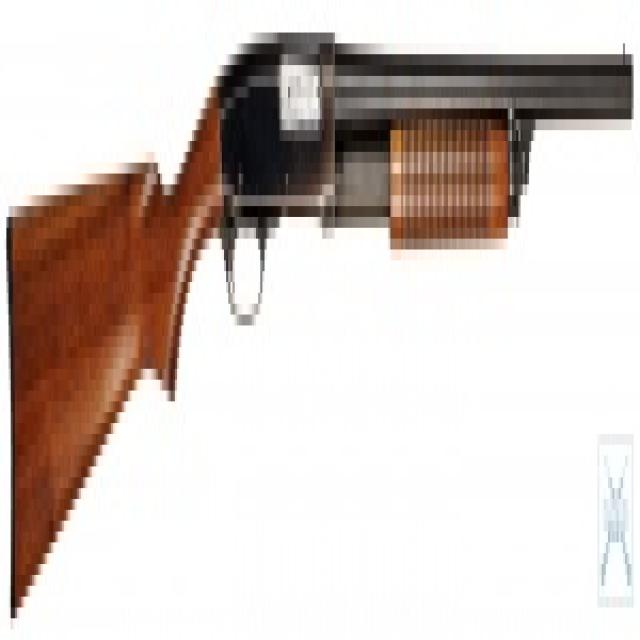rifle: (6, 1, 640, 617)
